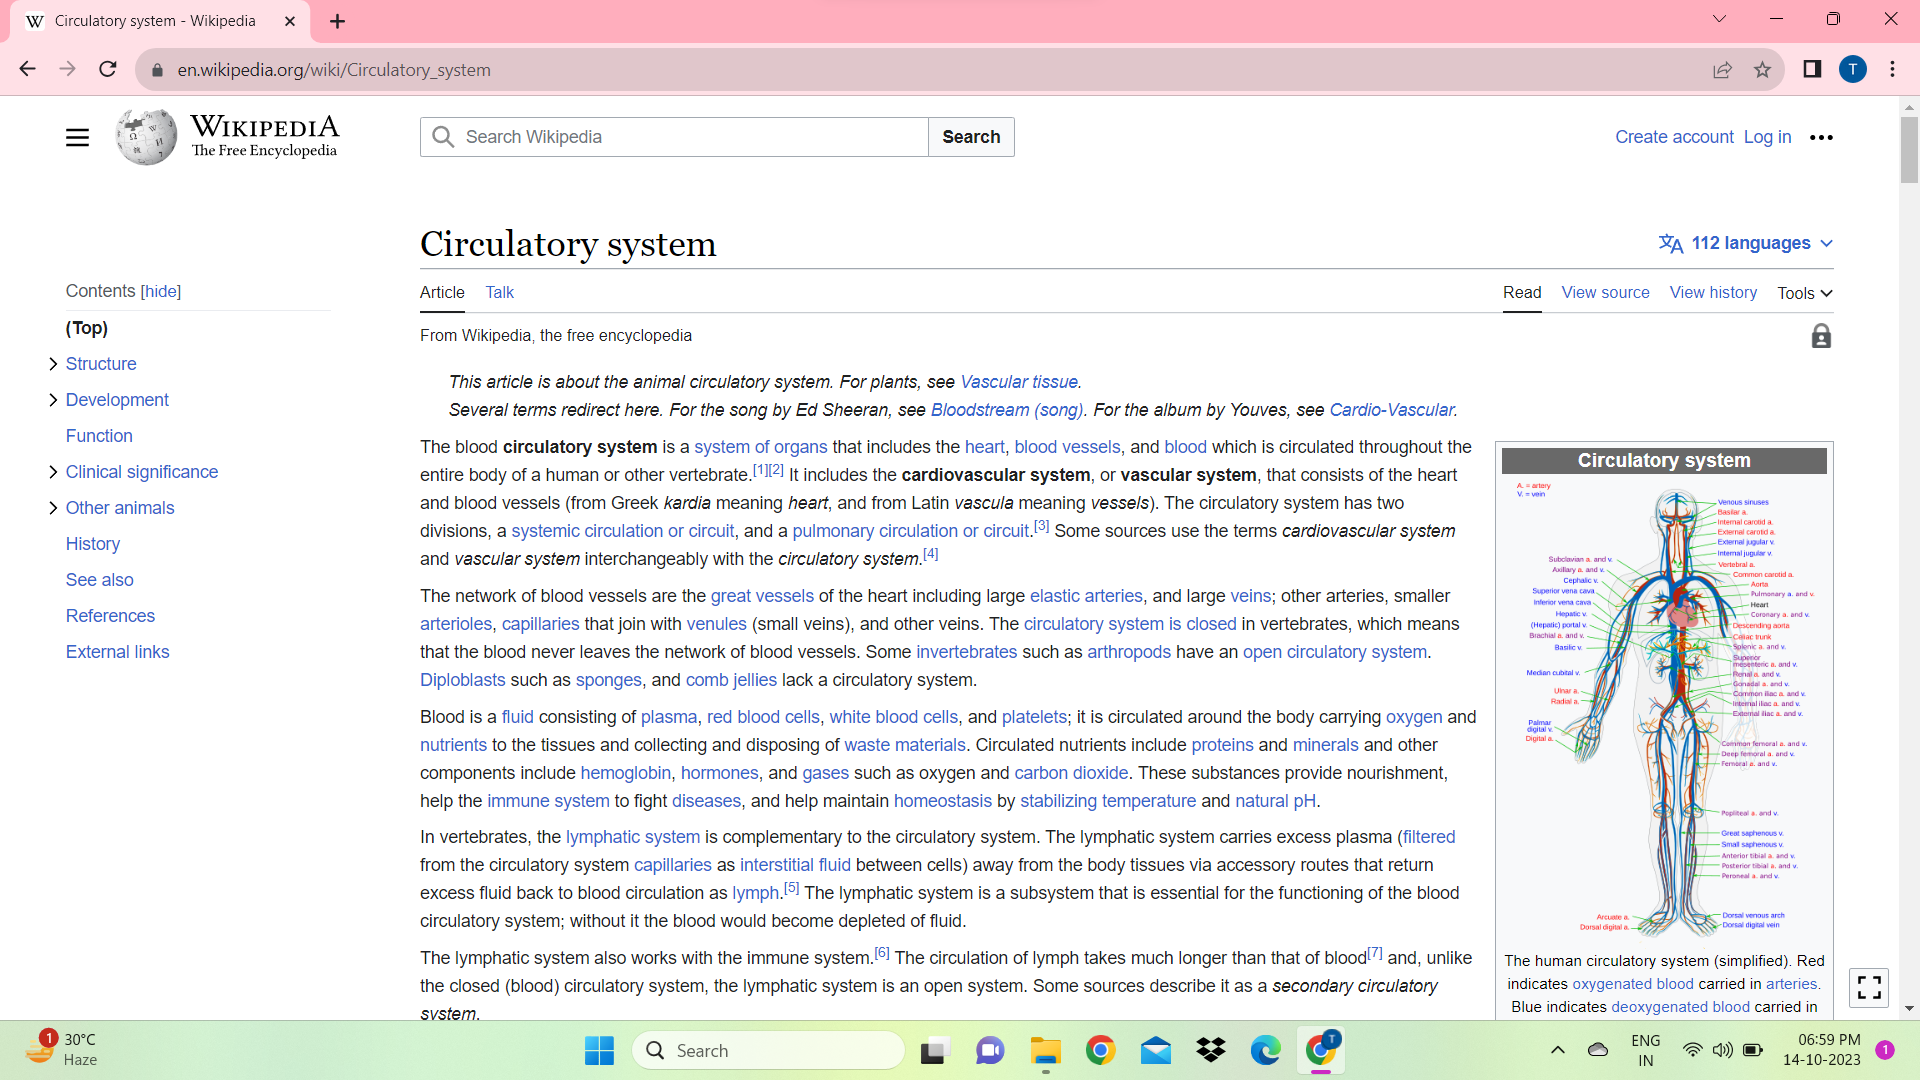Image: (1490, 444, 1896, 936)
Paragraph: (397, 703, 1485, 1021), (400, 427, 1473, 570), (411, 580, 1473, 692), (440, 369, 1499, 427), (411, 220, 732, 269), (400, 326, 705, 347), (58, 462, 245, 488), (57, 384, 179, 414), (58, 644, 187, 671), (54, 567, 157, 593), (51, 306, 121, 340)
